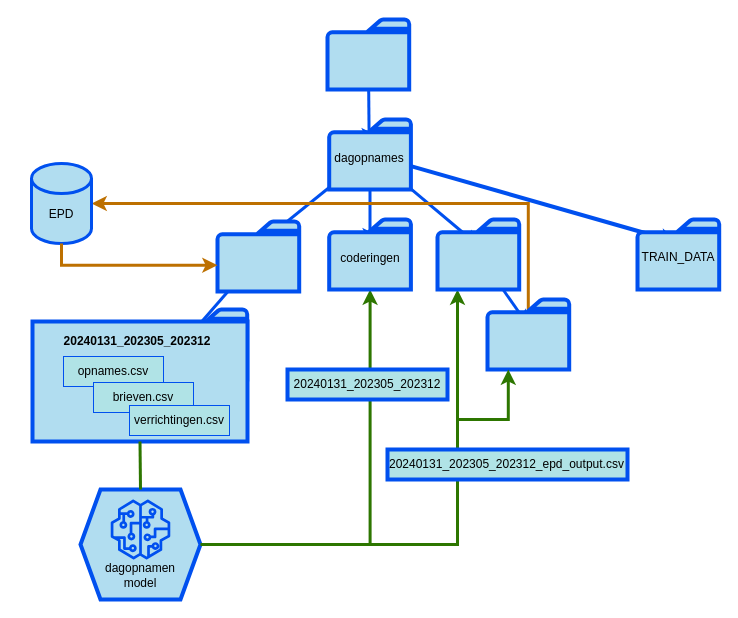
Image size: 738x618. Some labels were removed from this diagram. The centre of each missing label's shape, as x and y in pixels:
"aanleveringen" belongs at point 258,256.
"AIOC_DATA" belongs at point 368,54.
"epd_output" belongs at point 478,254.
"latest" belongs at point 528,334.
